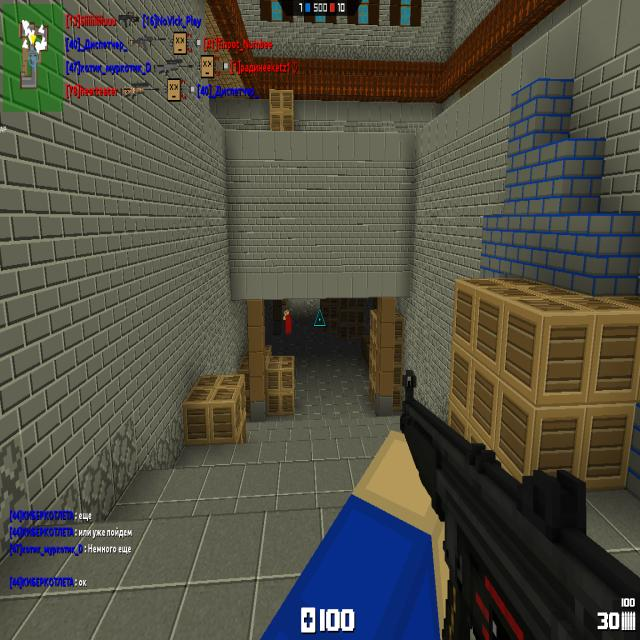enemy: (283, 308, 292, 334)
